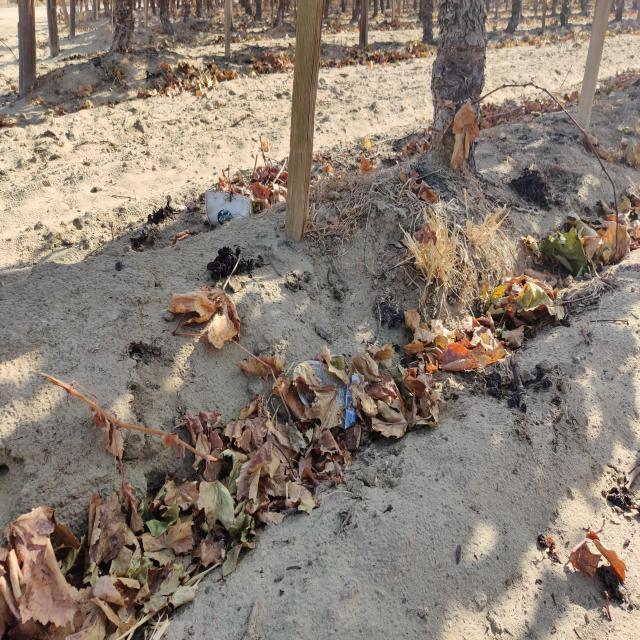litter: (306, 361, 364, 429), (206, 190, 254, 228), (297, 379, 316, 407)
